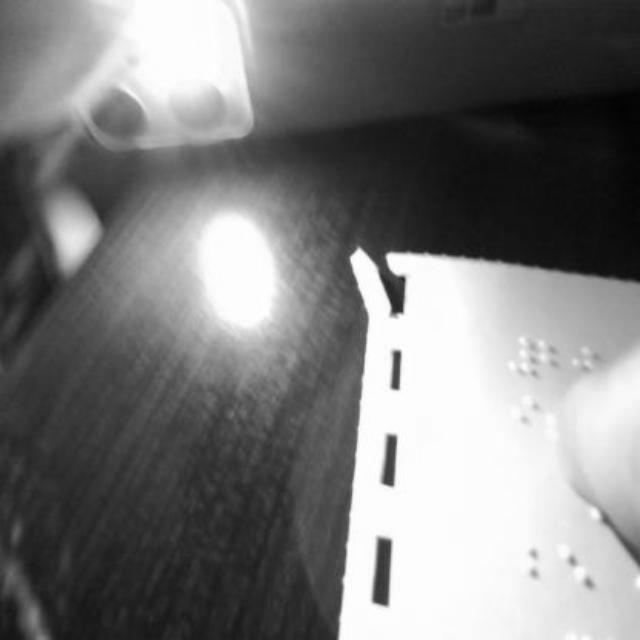braiile: (540, 330, 562, 380)
